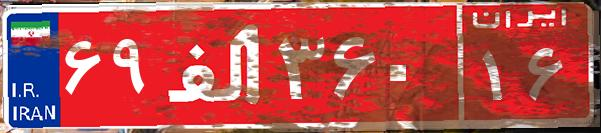0: (385, 28, 445, 110)
1: (475, 38, 525, 113)
3: (273, 28, 330, 110)
6: (330, 28, 385, 110), (57, 26, 110, 107), (525, 38, 570, 115)
9: (110, 28, 158, 105)
الف: (158, 15, 273, 115)
